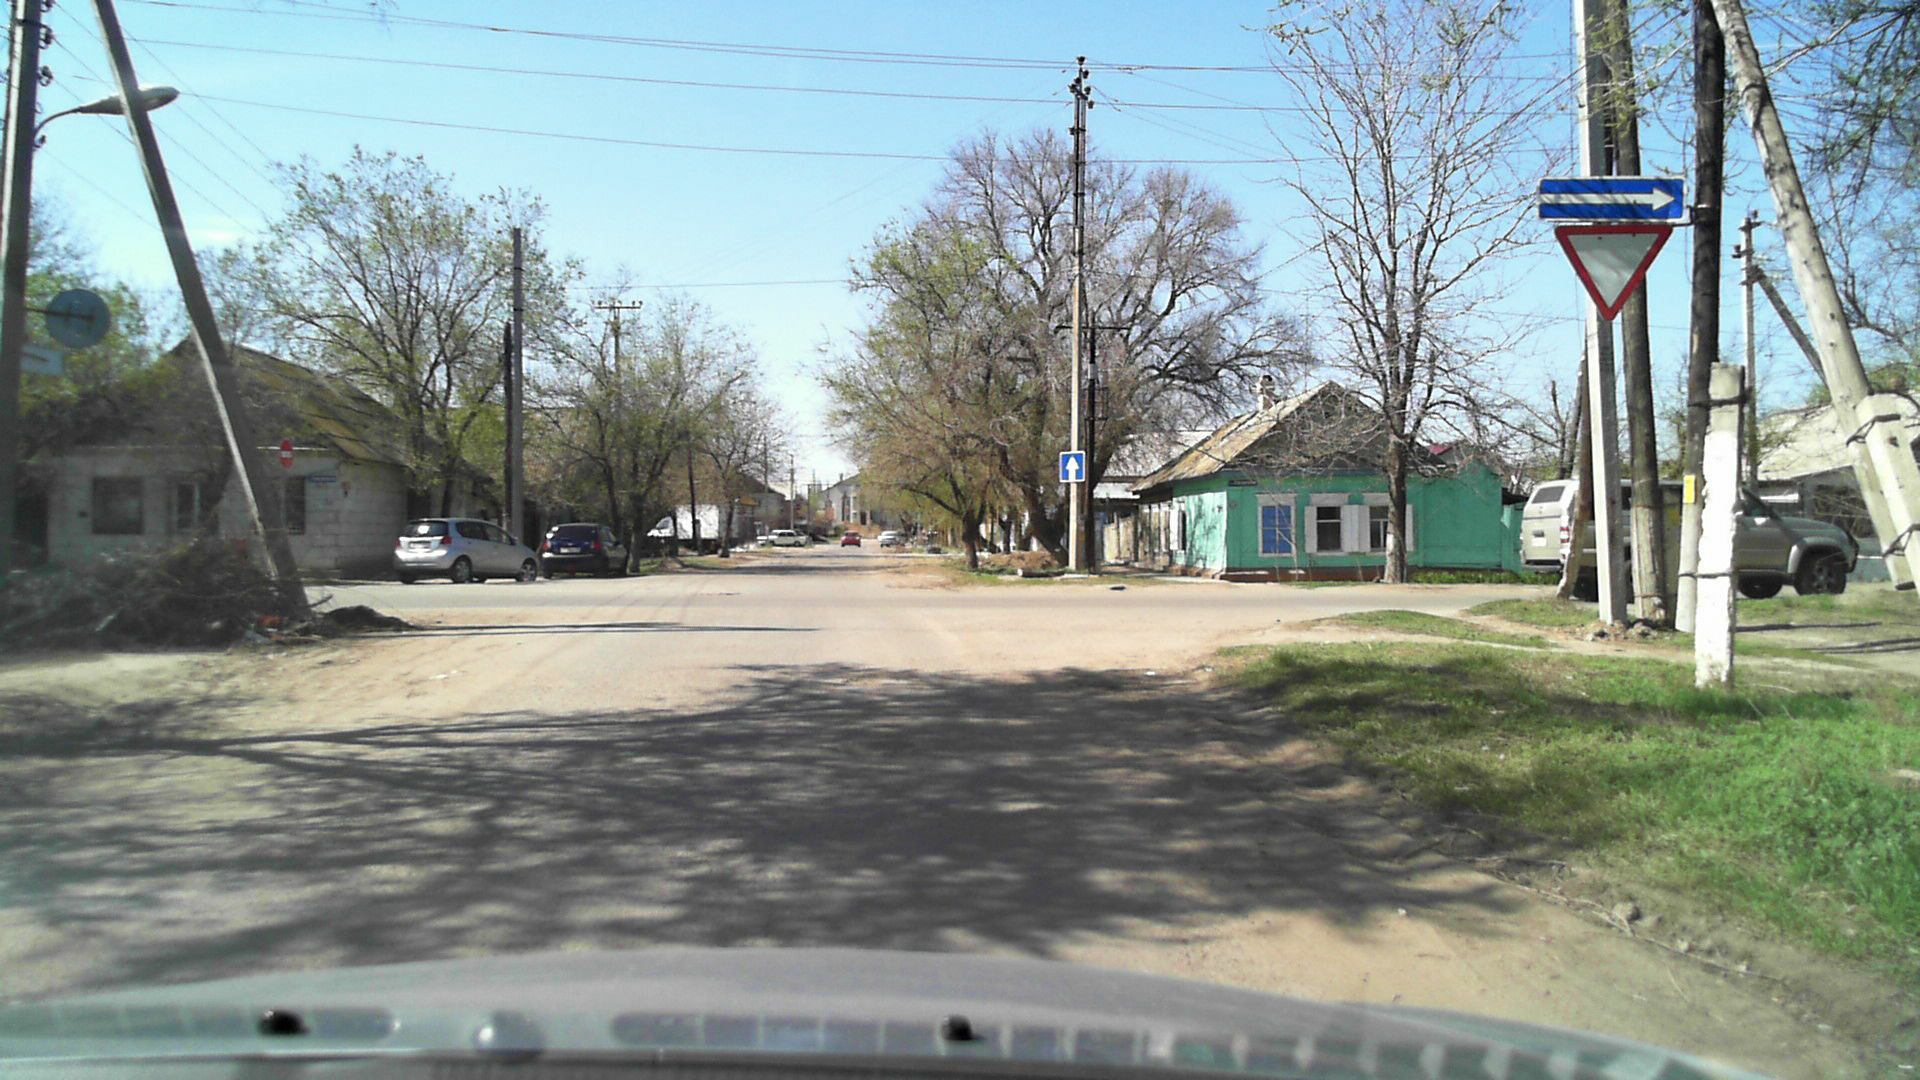One-Way Traffic: (1538, 178, 1687, 222)
